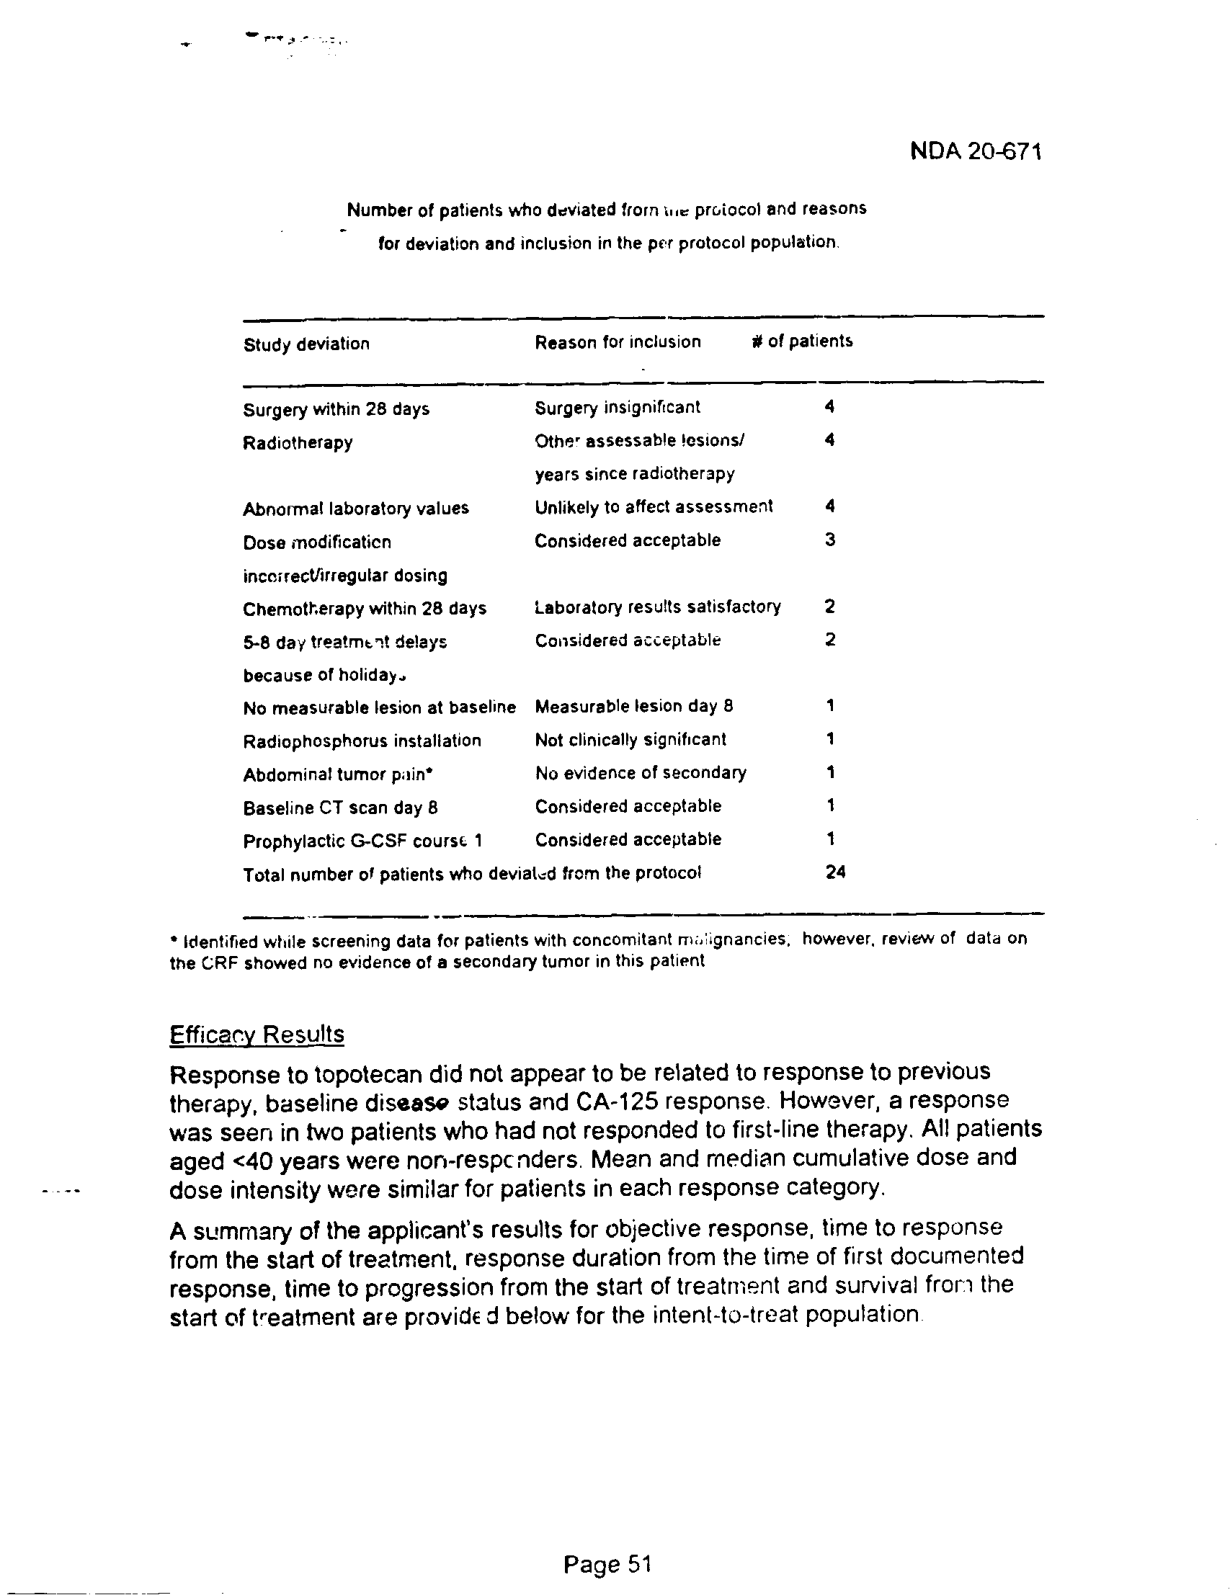partial_lined: (238, 313, 1048, 922)
